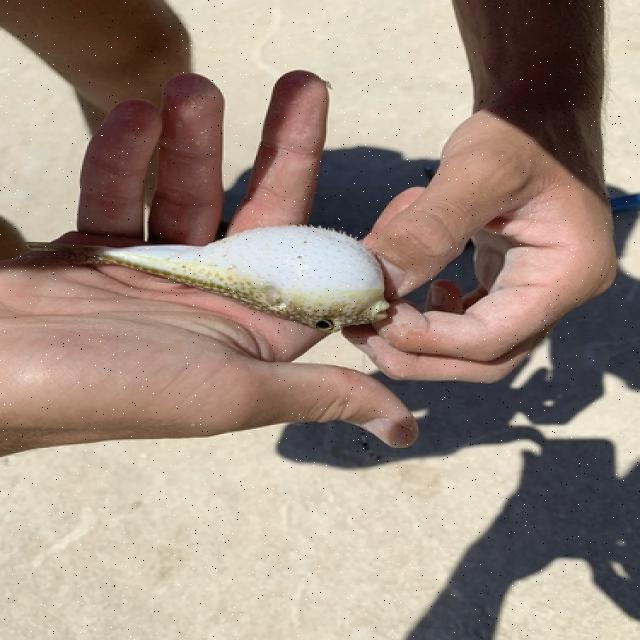Balik: (30, 226, 389, 332)
